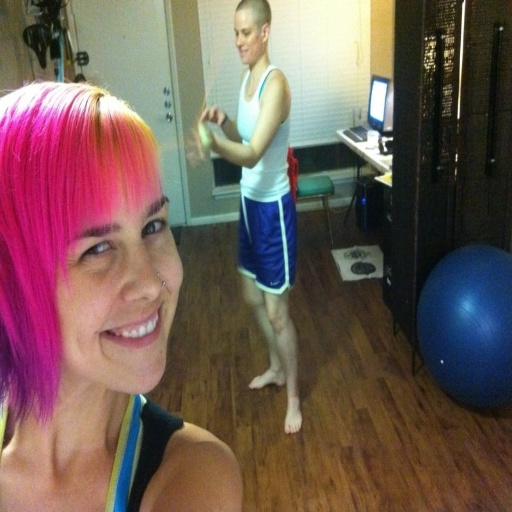hand: (189, 120, 220, 157), (199, 103, 229, 126)
